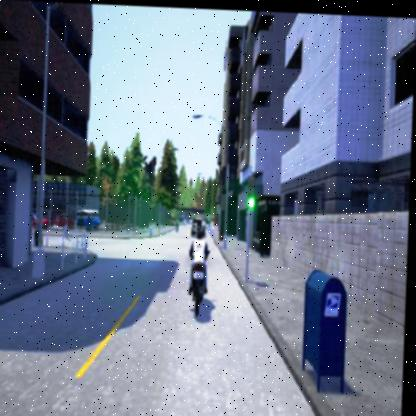motobike: (188, 230, 212, 314)
vehicle: (78, 208, 102, 227), (189, 214, 207, 234)
